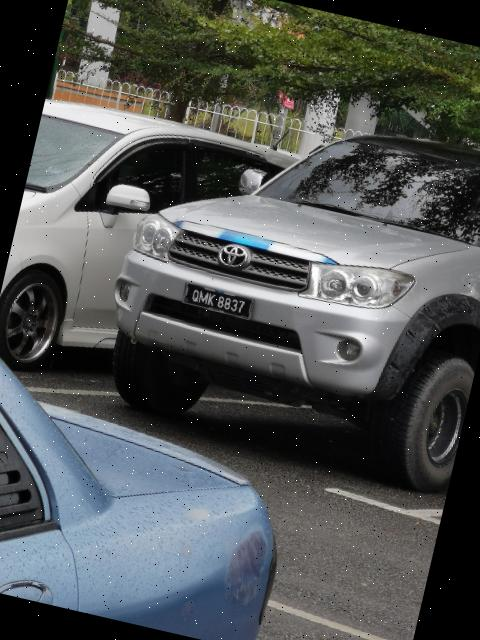License_Plate: (182, 284, 255, 322)
car: (72, 62, 480, 490), (1, 90, 314, 419)
